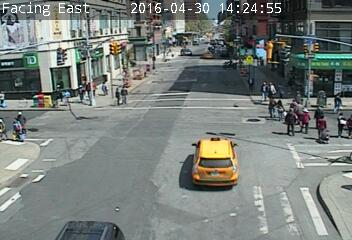neg: (101, 16, 131, 56), (206, 126, 233, 162), (19, 145, 46, 181), (35, 129, 62, 165), (123, 21, 150, 56), (241, 133, 267, 168), (71, 194, 96, 227), (319, 18, 343, 51), (208, 83, 232, 115), (239, 19, 262, 50), (185, 17, 208, 47), (296, 19, 318, 49), (283, 20, 304, 49), (147, 21, 167, 49), (265, 24, 285, 51), (260, 152, 280, 179), (1, 173, 20, 200), (192, 191, 211, 216), (28, 52, 46, 76), (78, 32, 96, 55), (155, 111, 173, 134), (317, 166, 335, 189), (168, 23, 185, 46), (202, 25, 218, 46), (188, 87, 204, 108), (217, 23, 232, 44), (202, 61, 217, 80), (300, 180, 314, 199), (148, 65, 160, 81), (61, 37, 72, 51)
pos: (331, 111, 351, 137), (281, 109, 300, 135), (299, 108, 316, 131), (119, 83, 136, 105), (8, 117, 24, 139), (315, 114, 331, 135), (253, 80, 268, 100), (260, 97, 275, 117), (333, 94, 347, 113), (74, 83, 87, 101), (110, 85, 123, 102), (264, 80, 277, 97), (99, 81, 110, 96), (63, 89, 73, 102)
